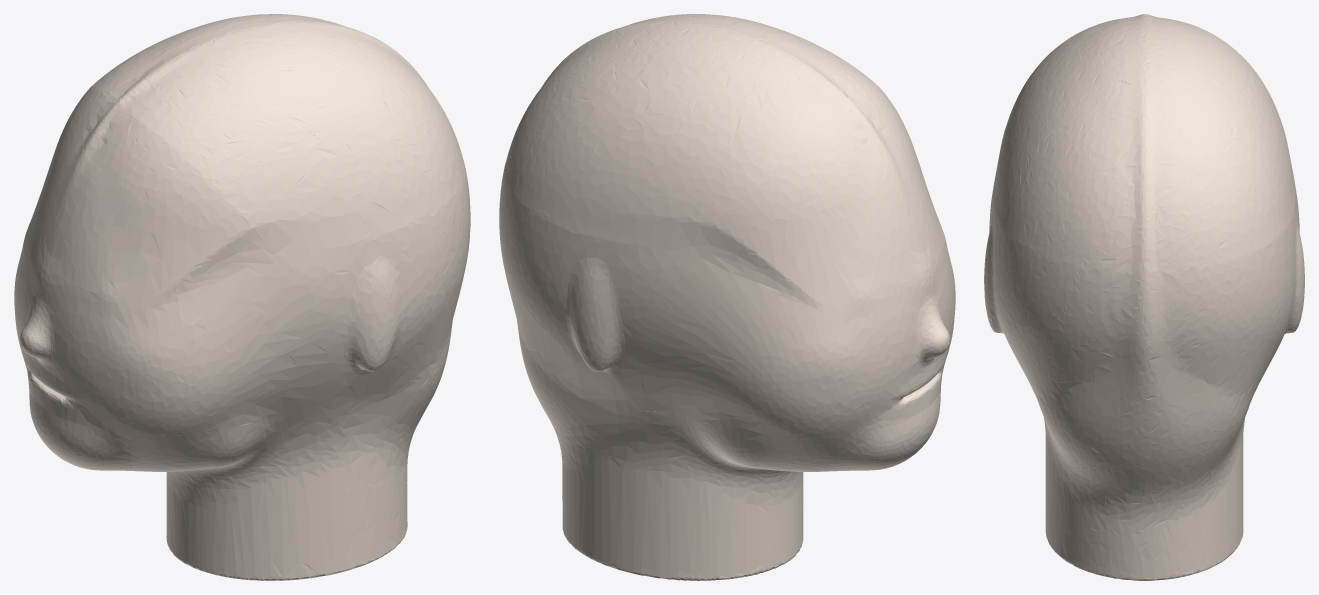
File: simple.glb
3 renders of one model, left to right at view 1: azimuth 30°, elevation 25°; view 2: azimuth 150°, elevation 25°; view 3: azimuth 270°, elevation 25°, orthographic. The views are drawn at different scales.
Parts seen in each view (by area): view 1: skin; view 2: skin; view 3: skin.
Part boxes in pixels (x1,y1,x2,y2): skin: (14,14,470,580); skin: (499,14,955,580); skin: (984,14,1304,580).
Size of the model in its own units: 247 by 287 by 172.
